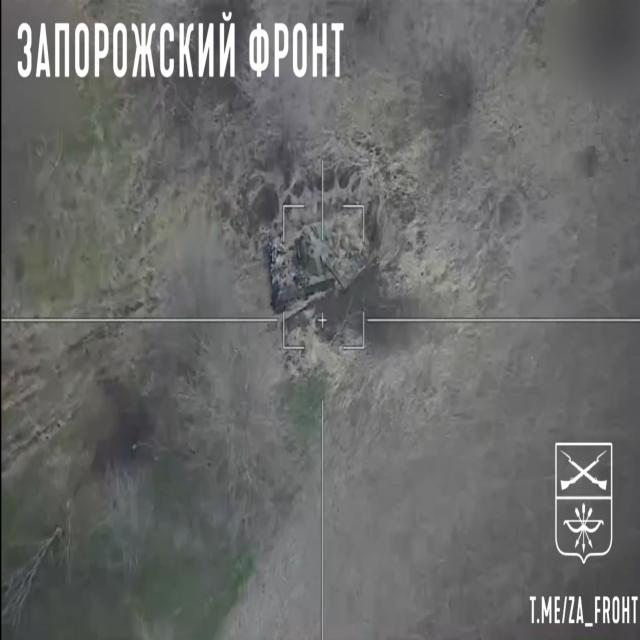tank: (268, 235, 355, 315)
